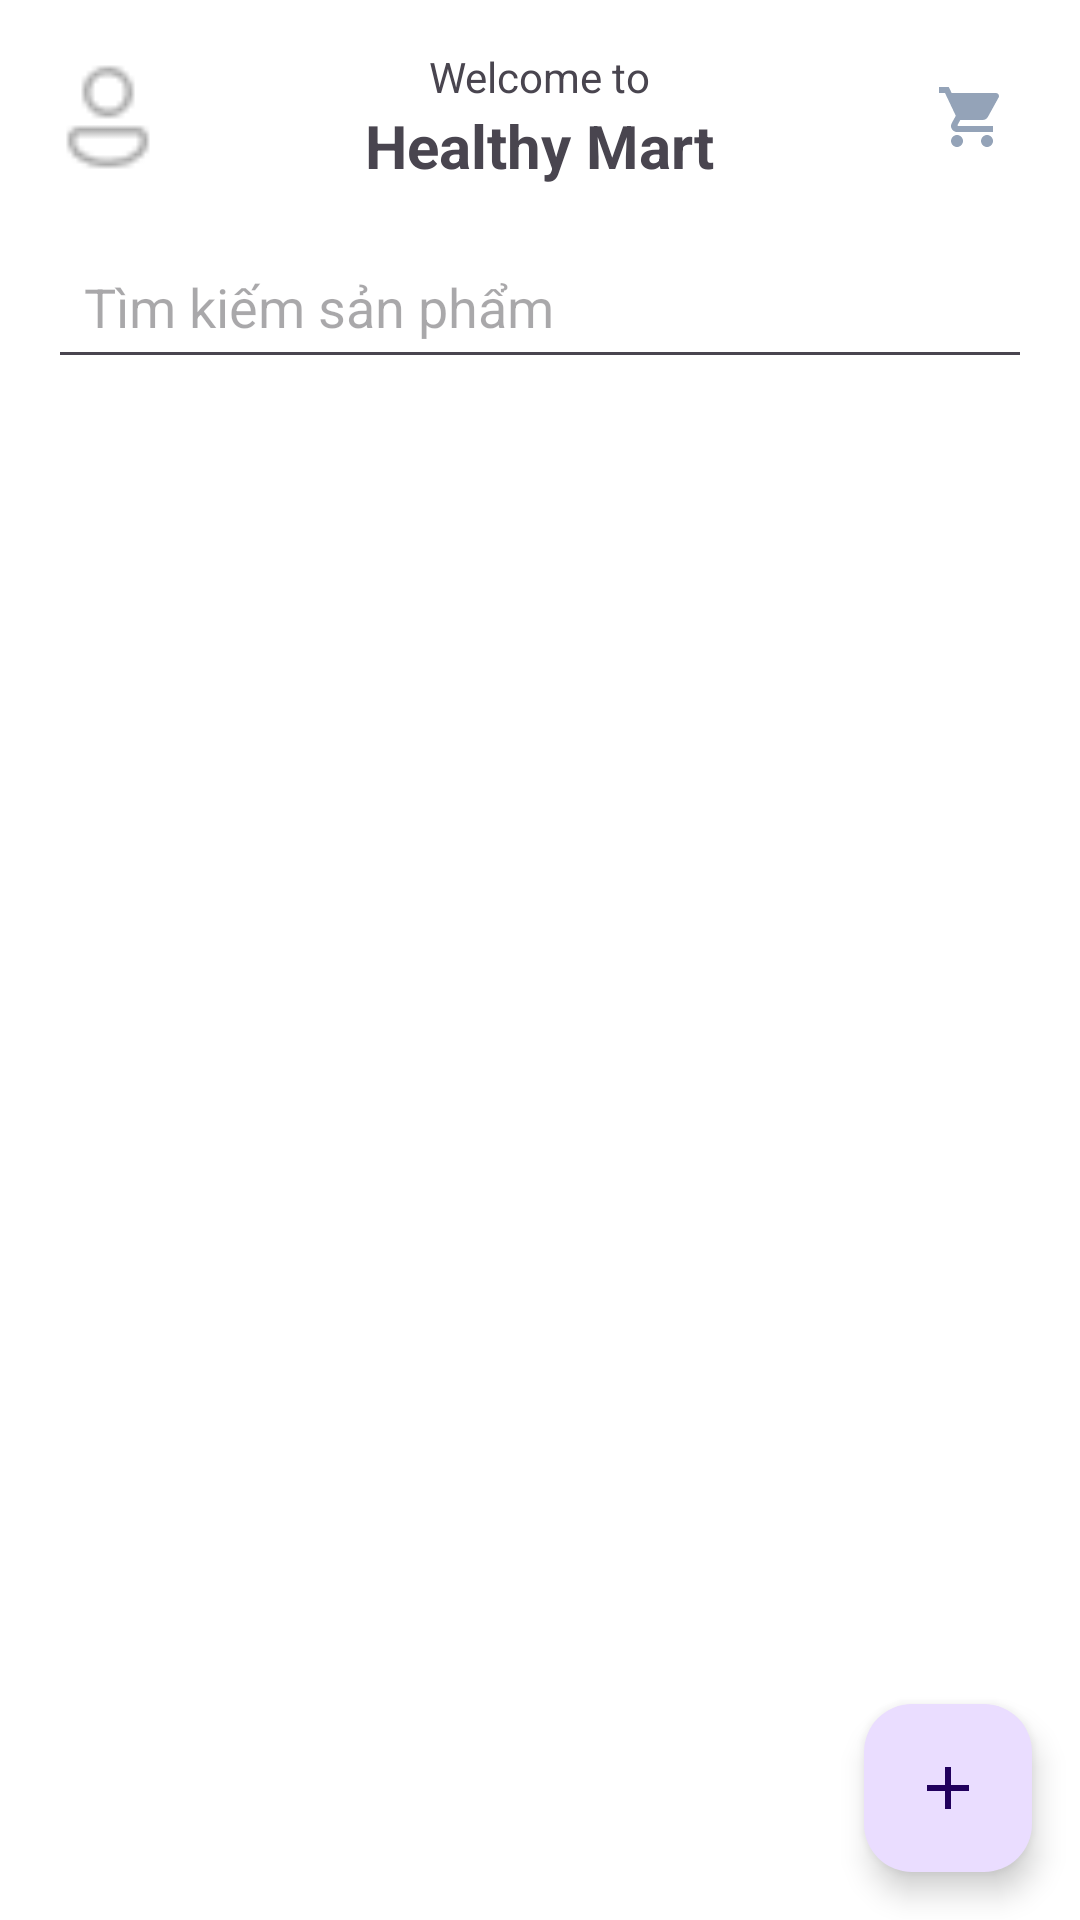

Icons on this 1080×1920 Android screen, each with its box as (x1, y1, x2, y2):
add: (864, 1704, 1032, 1872)
cart: (939, 87, 999, 147)
profile: (67, 66, 149, 168)
